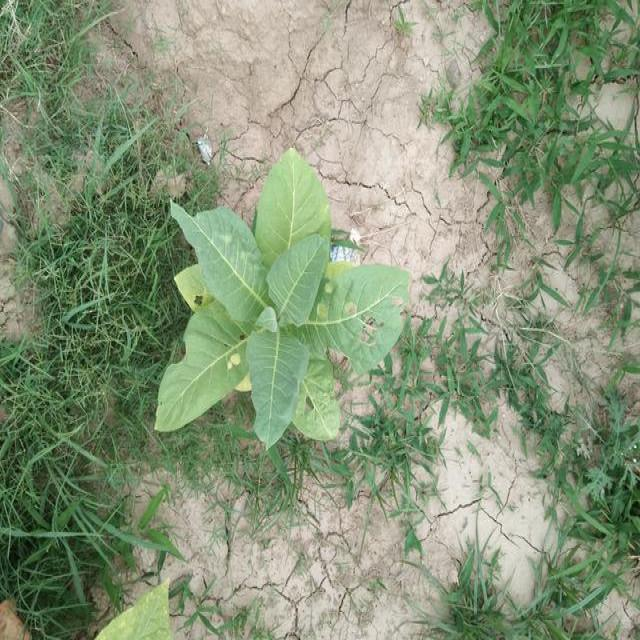crop: (156, 142, 418, 459)
